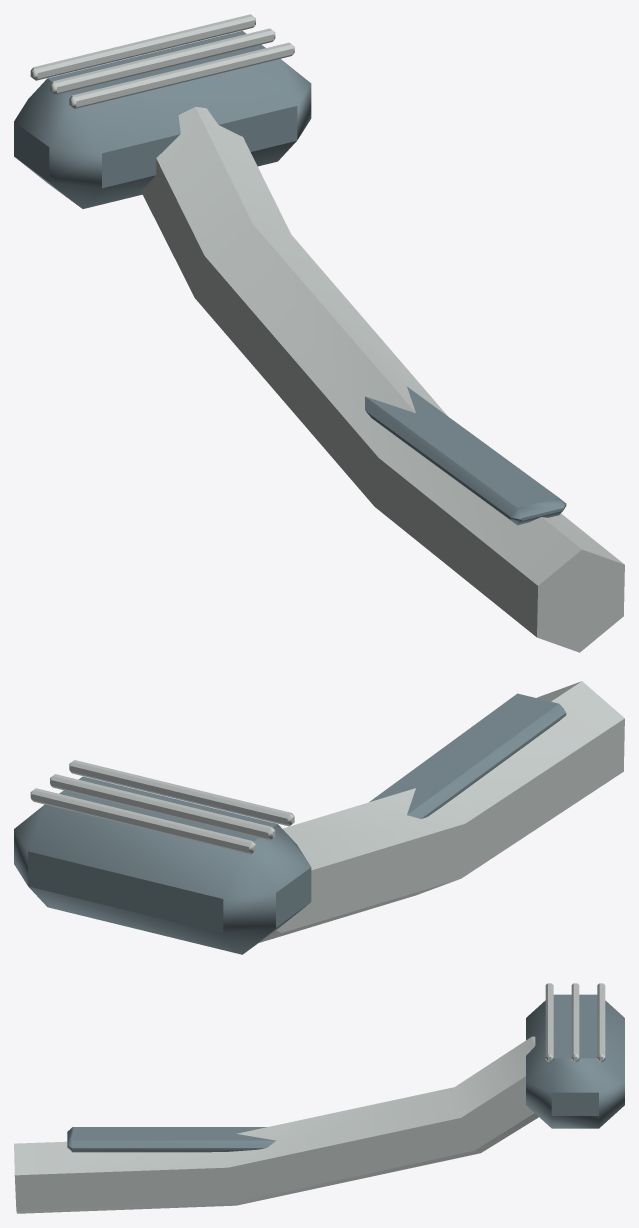
Rendered from razor.glb.
3 renders of one model, top to bottom at view 1: azimuth 30°, elevation 25°; view 2: azimuth 150°, elevation 25°; view 3: azimuth 270°, elevation 25°, orthographic. The views are drawn at different scales.
Visible parts, largest first — view 1: curved_handle, pivot_head, grip_insert, blade, blade.001, blade.002; view 2: curved_handle, pivot_head, grip_insert, blade, blade.001, blade.002; view 3: curved_handle, pivot_head, grip_insert, blade, blade.001, blade.002.
Boxes of the visible parts, x1,y1,x2,y2 form: curved_handle: (141,106,624,652); pivot_head: (14,30,311,208); grip_insert: (365,386,566,525); blade: (30,14,255,80); blade.001: (50,28,275,94); blade.002: (69,42,294,108); curved_handle: (259,681,624,942); pivot_head: (14,776,311,954); grip_insert: (369,693,566,818); blade: (30,788,255,854); blade.001: (50,774,275,840); blade.002: (69,760,294,826); curved_handle: (14,1036,538,1213); pivot_head: (526,994,624,1128); grip_insert: (67,1127,275,1152); blade: (597,983,605,1061); blade.001: (571,983,579,1061); blade.002: (545,983,553,1061).
Bounding box in the file's own units: 0.047 × 0.05 × 0.1419.
